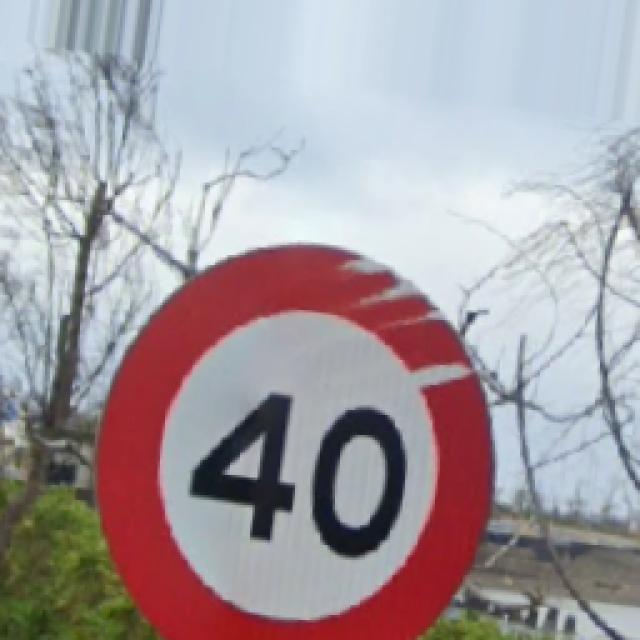Speed Limit -40-: (98, 248, 490, 638)
